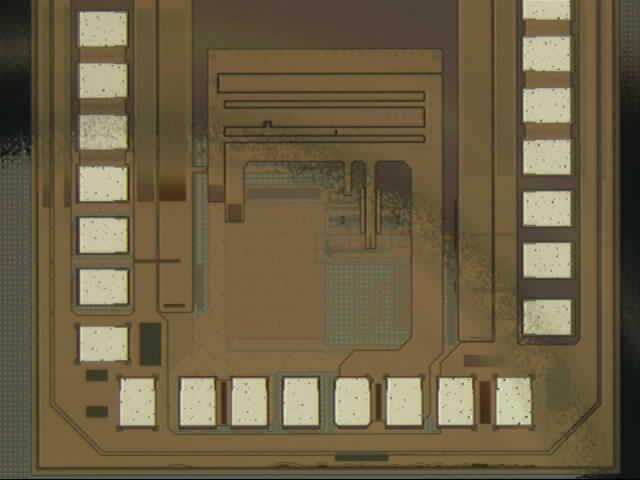BLOCK ETCH: (1, 111, 615, 480)
